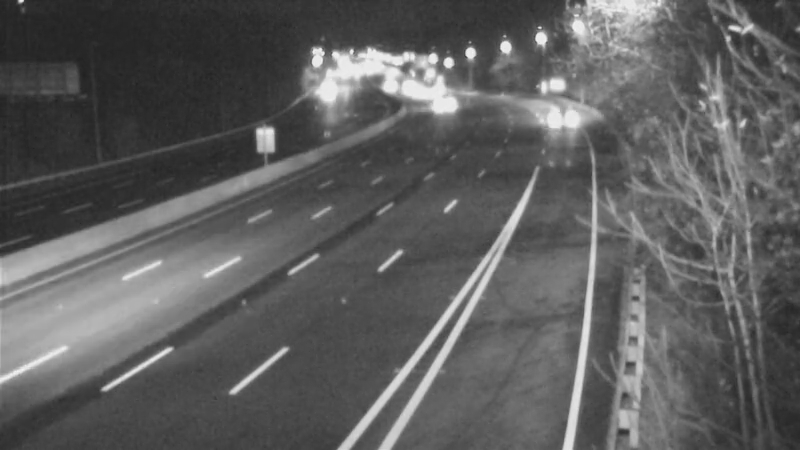vehicle: (417, 81, 467, 131), (531, 91, 581, 141)
